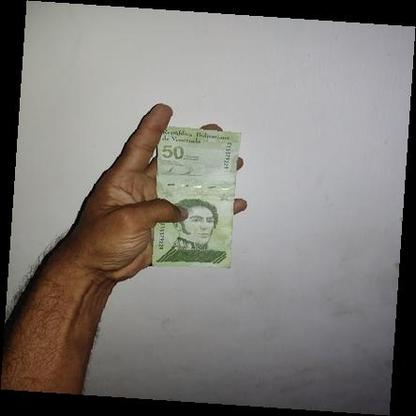fifty-front-vef: (152, 124, 242, 268)
